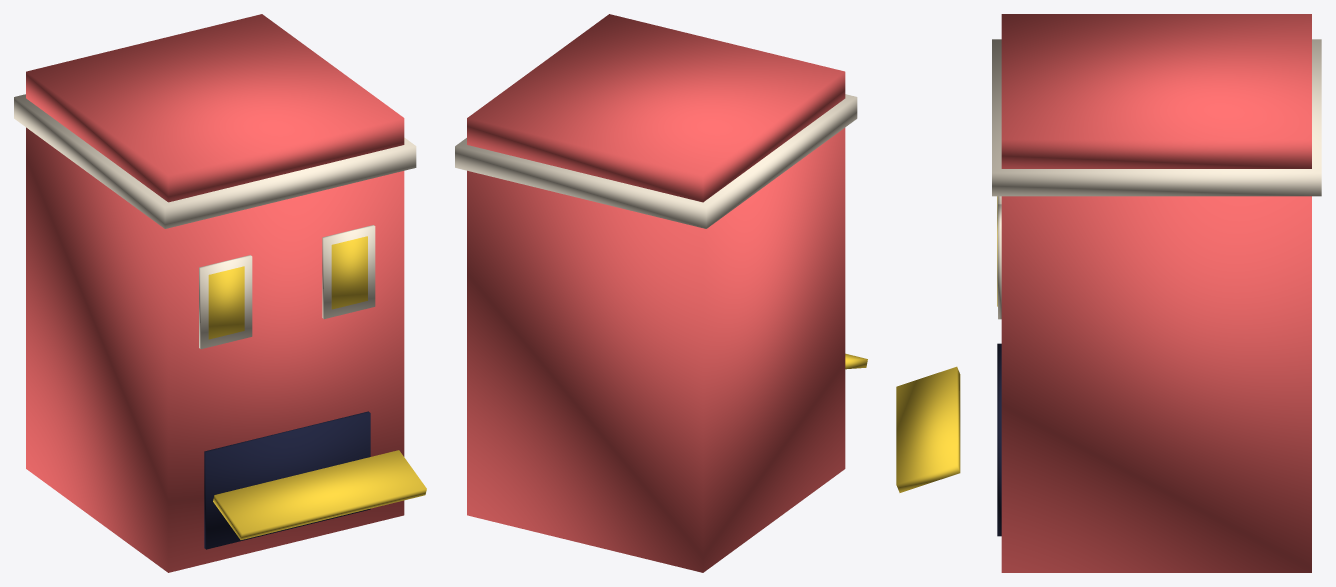
File: building_d.glb
The picture shows the model from 3 angles, left to right: view 1: azimuth 30°, elevation 25°; view 2: azimuth 150°, elevation 25°; view 3: azimuth 270°, elevation 25°; orthographic projection. The views are drawn at different scales.
Visible parts, largest first — view 1: building_d; view 2: building_d; view 3: building_d.
Boxes of the visible parts, box(x1,y1,x2,y2) form: building_d: box(14, 14, 426, 572); building_d: box(455, 14, 867, 572); building_d: box(896, 14, 1321, 572).
Bounding box in the file's own units: 4.9 × 7.4 × 6.58.
